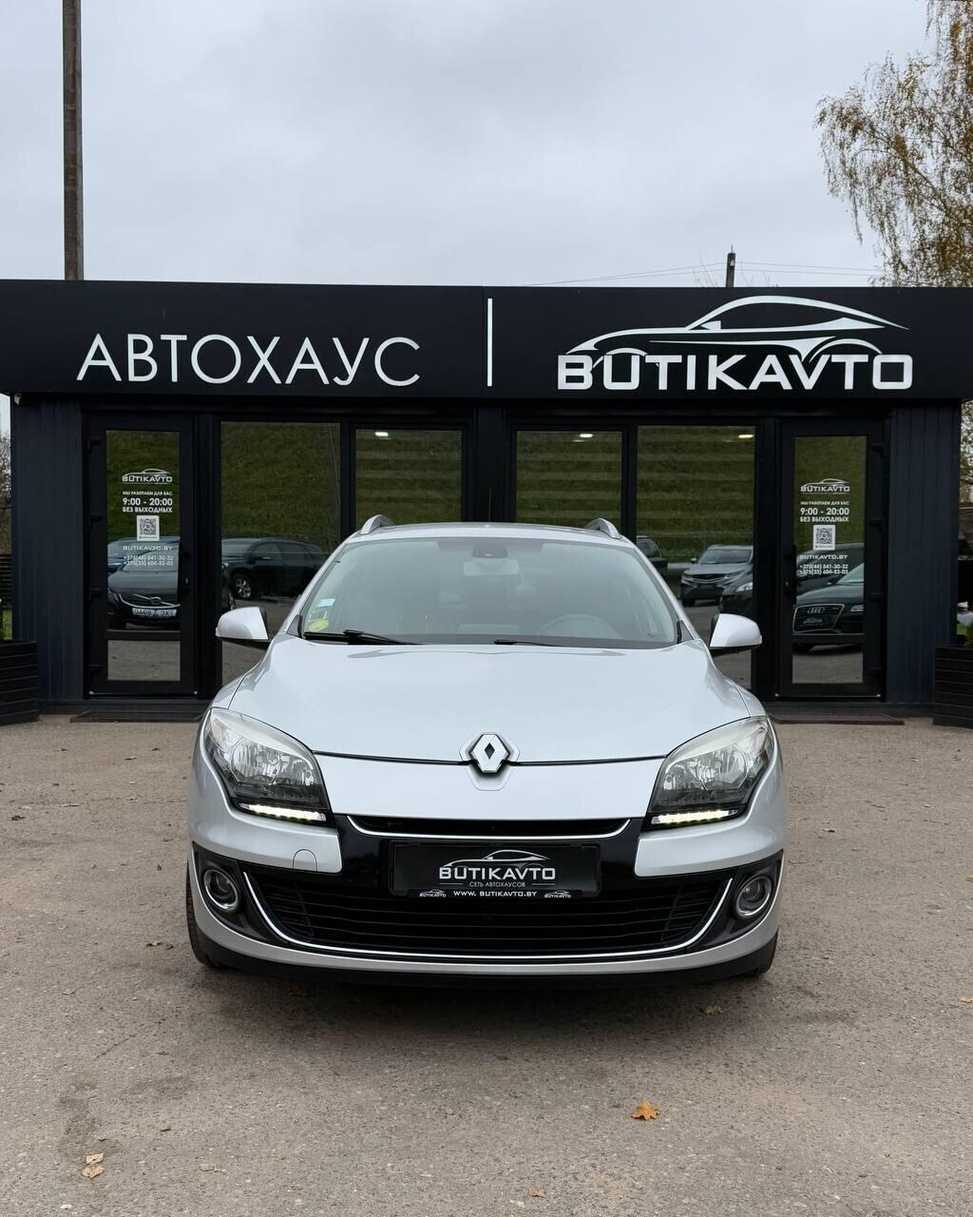Megane_2012-2014: (184, 517, 782, 1005)
